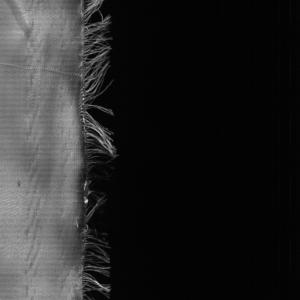Damage: (75, 1, 125, 300)
Wrinkle: (1, 1, 43, 300)
